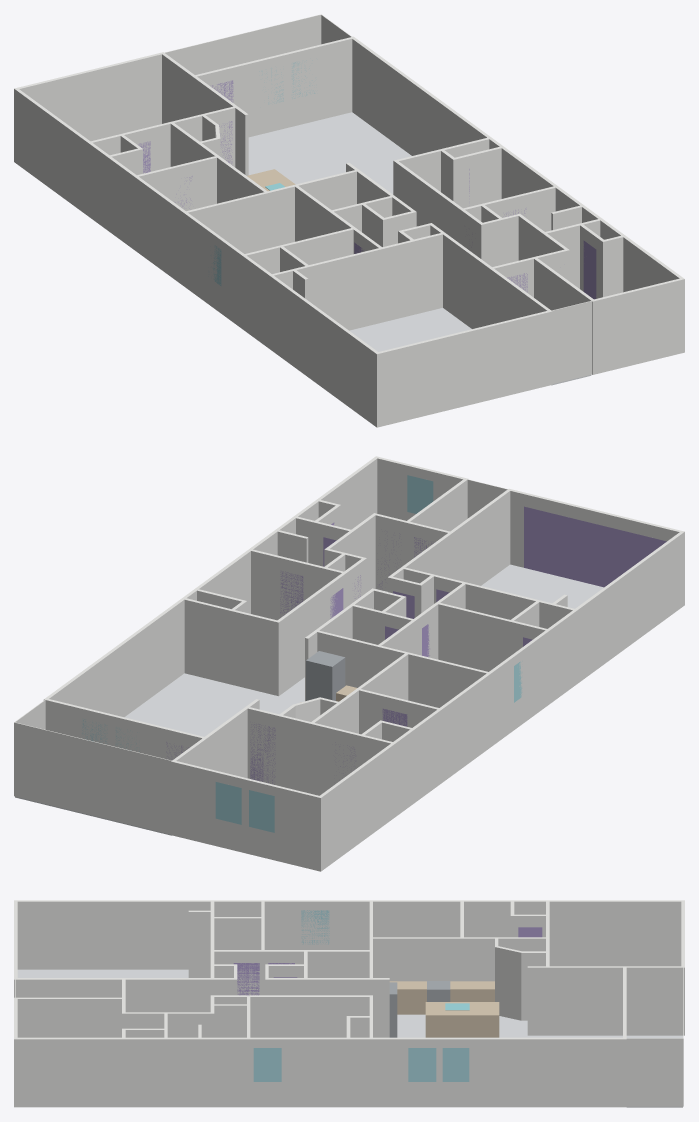
File: prism-unfurnished.glb
The picture shows the model from 3 angles, top to bottom: view 1: azimuth 30°, elevation 25°; view 2: azimuth 150°, elevation 25°; view 3: azimuth 270°, elevation 25°; orthographic projection. The views are drawn at different scales.
Parts seen in each view (by area): view 1: wall-32, wall-70, wall-29, wall-66, room-floor-01, wall-51, wall-18, wall-42, wall-01, wall-43, wall-22, wall-73 (+41 smaller); view 2: wall-22, wall-66, wall-29, wall-51, door-09, wall-42, room-floor-01, wall-70, wall-43, wall-23, wall-85, wall-73 (+42 smaller); view 3: wall-51, wall-29, wall-42, wall-07, wall-14, wall-13, wall-43, wall-26, wall-82, wall-61, wall-63, wall-35 (+44 smaller).
Part boxes in pixels (x1=…): wall-32: x1=377, y1=311, x2=552, y2=427; wall-70: x1=194, y1=36, x2=352, y2=137; wall-29: x1=269, y1=275, x2=377, y2=427; wall-66: x1=14, y1=52, x2=162, y2=141; room-floor-01: x1=248, y1=112, x2=411, y2=194; wall-51: x1=352, y1=36, x2=491, y2=155; wall-18: x1=592, y1=278, x2=684, y2=374; wall-42: x1=14, y1=88, x2=90, y2=215; wall-01: x1=308, y1=248, x2=382, y2=330; wall-43: x1=183, y1=212, x2=244, y2=328; wall-22: x1=163, y1=14, x2=321, y2=74; wall-73: x1=134, y1=176, x2=185, y2=285; wall-22: x1=14, y1=722, x2=172, y2=834; wall-66: x1=171, y1=761, x2=320, y2=871; wall-29: x1=575, y1=531, x2=684, y2=683; wall-51: x1=44, y1=598, x2=184, y2=717; door-09: x1=524, y1=506, x2=666, y2=587; wall-42: x1=320, y1=743, x2=395, y2=871; room-floor-01: x1=125, y1=589, x2=387, y2=736; wall-70: x1=43, y1=699, x2=204, y2=760; wall-43: x1=489, y1=630, x2=549, y2=746; wall-23: x1=450, y1=489, x2=510, y2=585; wall-85: x1=437, y1=603, x2=510, y2=671; wall-73: x1=439, y1=673, x2=490, y2=782; wall-51: x1=371, y1=1037, x2=626, y2=1107; wall-29: x1=14, y1=900, x2=212, y2=969; wall-42: x1=547, y1=900, x2=684, y2=966; wall-07: x1=14, y1=1037, x2=123, y2=1107; wall-14: x1=248, y1=1037, x2=348, y2=1107; wall-13: x1=547, y1=966, x2=624, y2=1035; wall-43: x1=263, y1=900, x2=371, y2=949; wall-26: x1=248, y1=995, x2=372, y2=1037; wall-82: x1=15, y1=997, x2=123, y2=1037; wall-61: x1=625, y1=966, x2=684, y2=1035; wall-63: x1=625, y1=1038, x2=683, y2=1106; wall-35: x1=372, y1=937, x2=462, y2=981.
Bounding box in the file's own units: 10.71 × 2.49 × 21.86.
